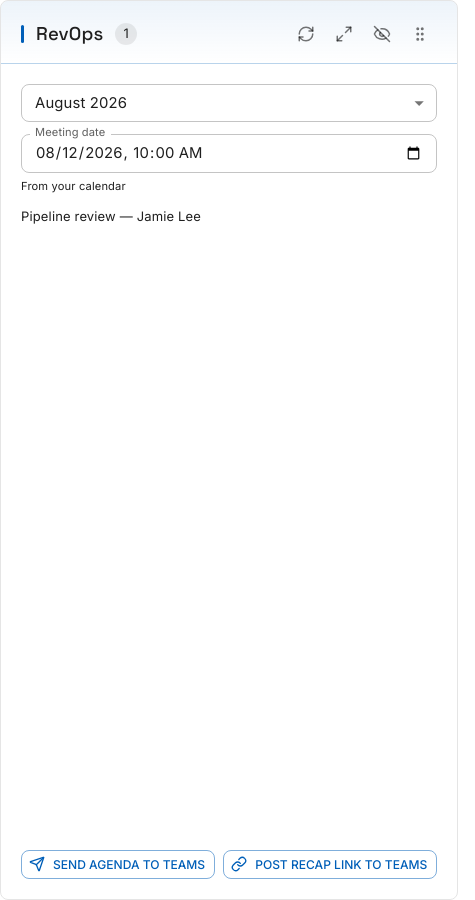
RevOpsTile › switches months and loads the matching record
Expected: the text "Pipeline review — Jamie Lee" is shown, [21,208,201,224]
Step 1. Press the mouse on the dropdown named "Month" → (81, 102), box [35,94,127,112]
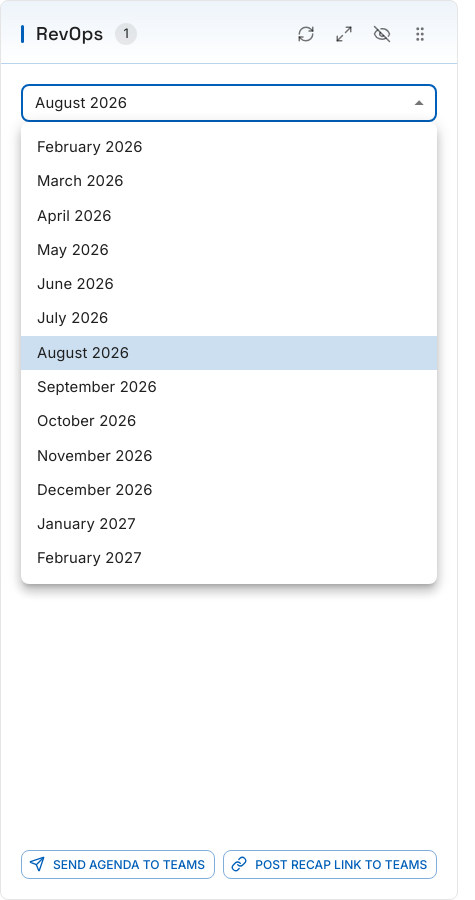
Step 2. Click the option "July 2026" → click(73, 318), box [37,309,108,327]
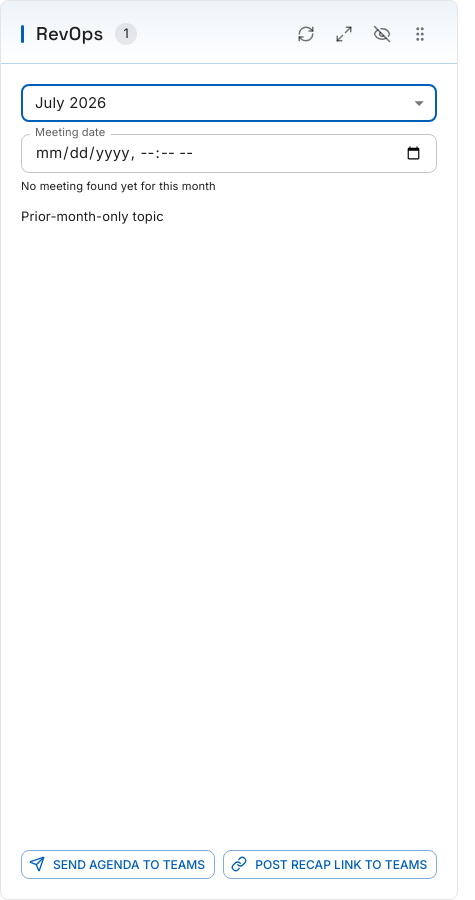
Expected: the text "Prior-month-only topic" is shown, [21,208,164,224]
Expected: the text "Pipeline review" is gone
